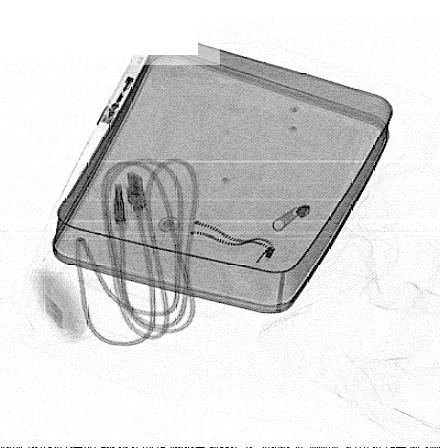Lighter: (96, 71, 142, 130)
